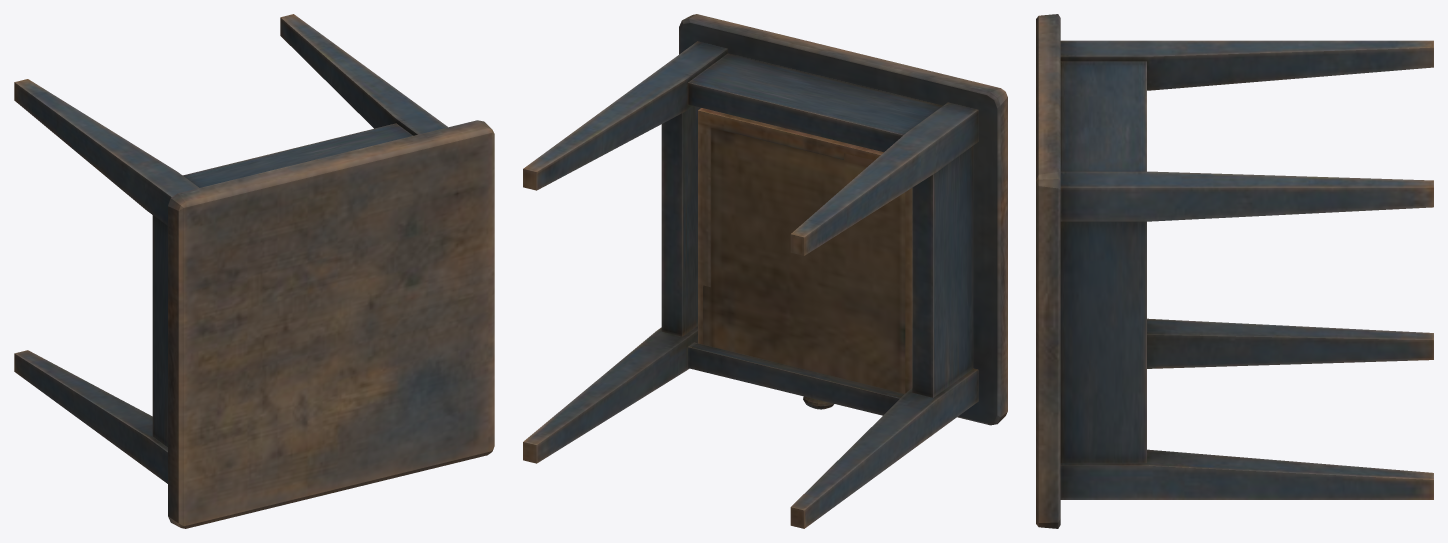
File: nightstand.obj
3 views of the same model, side by side, from view 1: azimuth 30°, elevation 25°; view 2: azimuth 150°, elevation 25°; view 3: azimuth 270°, elevation 25° (orthographic). The views are drawn at different scales.
Parts seen in each view (by area): view 1: nightstand; view 2: nightstand; view 3: nightstand.
Boxes of the visible parts, box(x1,y1,x2,y2) form: nightstand: box(14, 14, 494, 528); nightstand: box(523, 14, 1007, 528); nightstand: box(1036, 14, 1433, 528).
Size of the model in its own units: 1 by 1 by 1.
1 material, 1 textured.
